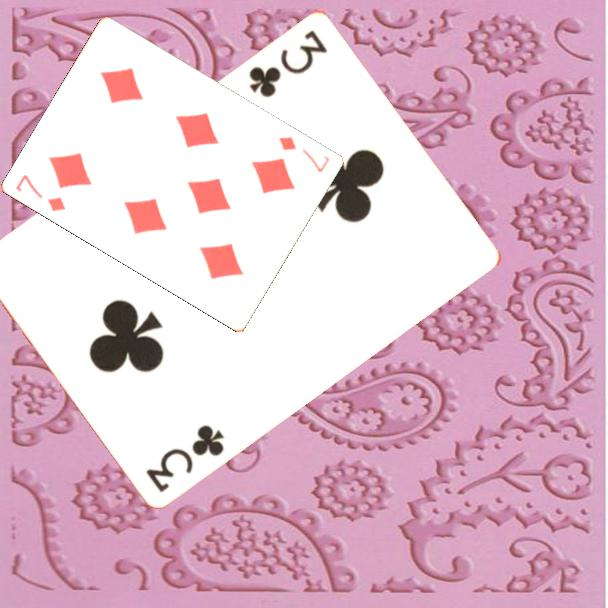c03: (245, 25, 331, 100), (142, 420, 228, 495)
d07: (12, 171, 69, 214), (276, 133, 333, 175)
